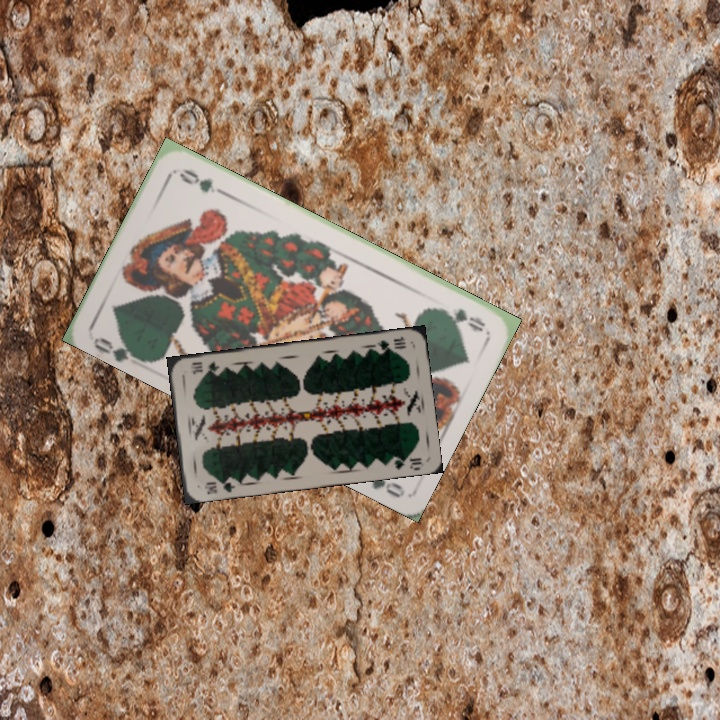G10: (201, 475, 238, 497), (370, 332, 408, 353)
GO: (89, 330, 145, 365), (432, 304, 488, 335)
